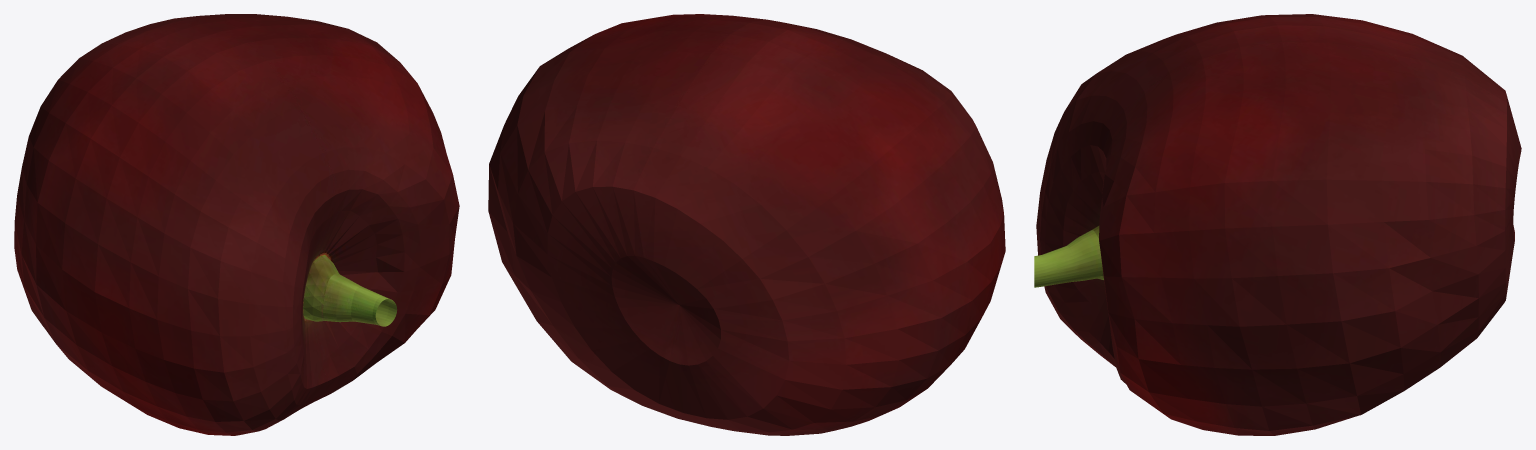
File: cherry.obj
The picture shows the model from 3 angles, left to right: view 1: azimuth 30°, elevation 25°; view 2: azimuth 150°, elevation 25°; view 3: azimuth 270°, elevation 25°; orthographic projection. The views are drawn at different scales.
Visible parts, largest first — view 1: cherry; view 2: cherry; view 3: cherry.
Part boxes in pixels (x1=…): cherry: x1=14, y1=14, x2=459, y2=435; cherry: x1=488, y1=14, x2=1005, y2=435; cherry: x1=1034, y1=14, x2=1521, y2=435.
Bounding box in the file's own units: 5.19 × 4.5 × 5.21.
